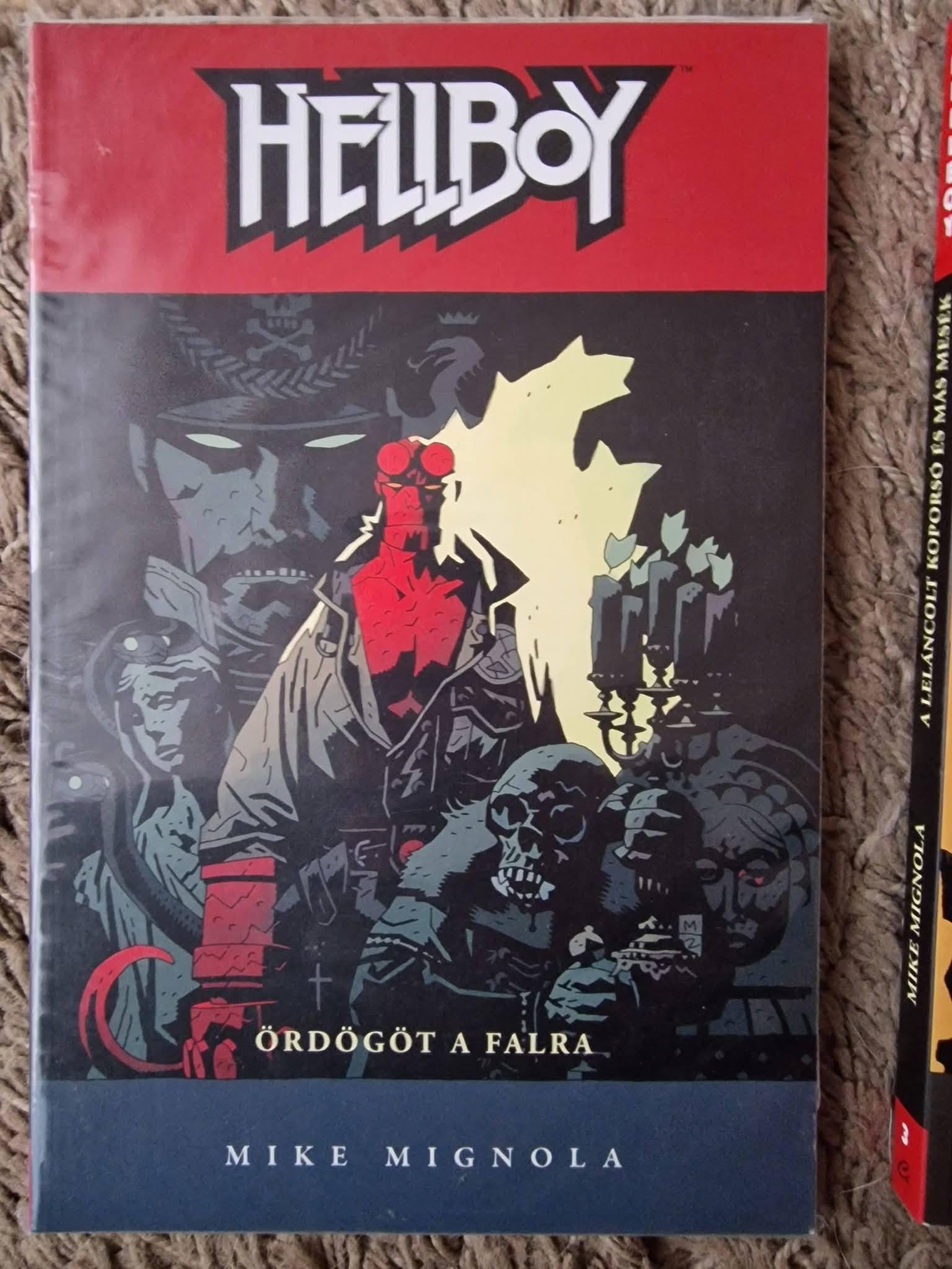comic: (26, 18, 826, 1233), (892, 26, 951, 1223)
